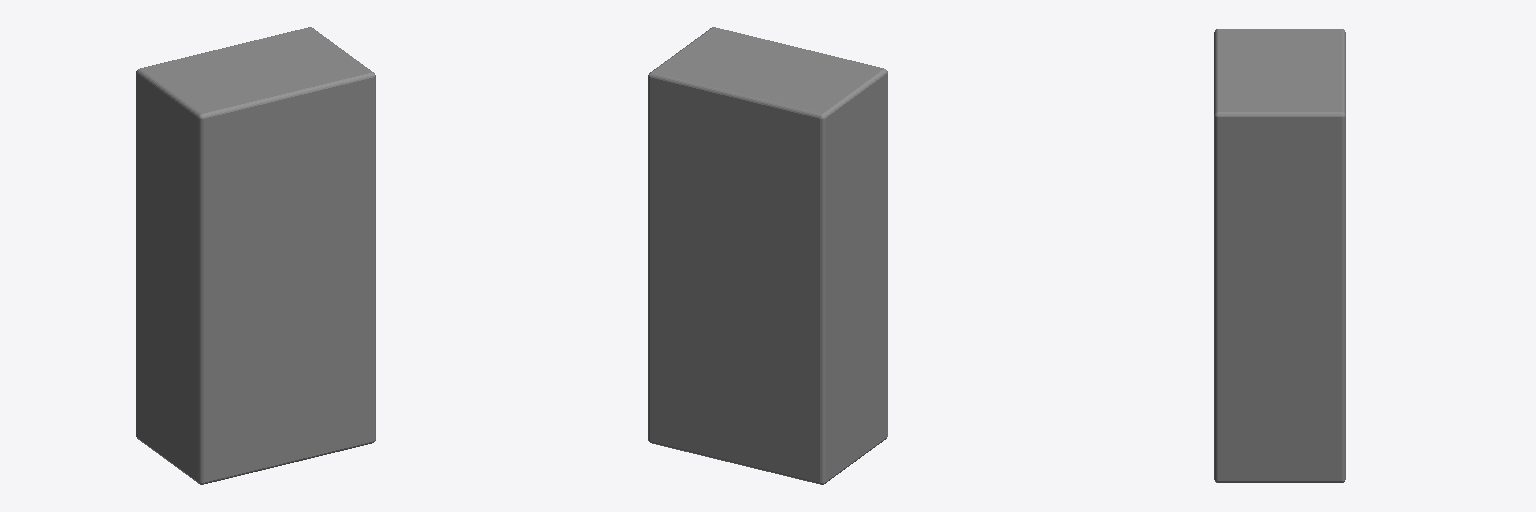
Rendered from SaltPackage.obj.
3 renders of one model, left to right at view 1: azimuth 30°, elevation 25°; view 2: azimuth 150°, elevation 25°; view 3: azimuth 270°, elevation 25°, orthographic.
Visible parts, largest first — view 1: SaltPackage; view 2: SaltPackage; view 3: SaltPackage.
Boxes of the visible parts, box(x1,y1,x2,y2) form: SaltPackage: box(136, 27, 375, 484); SaltPackage: box(648, 27, 887, 484); SaltPackage: box(1214, 29, 1345, 482).
Bounding box in the file's own units: 2.76 × 5.51 × 1.77.